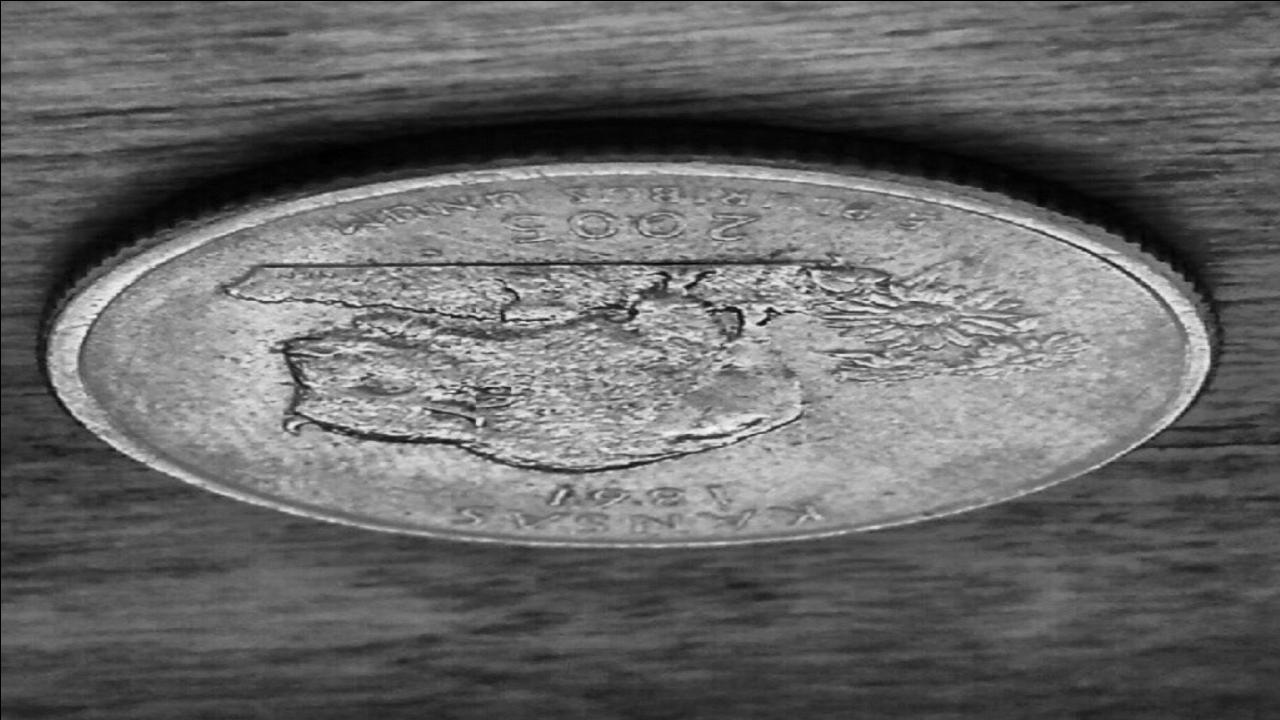coin: (35, 124, 1220, 548)
